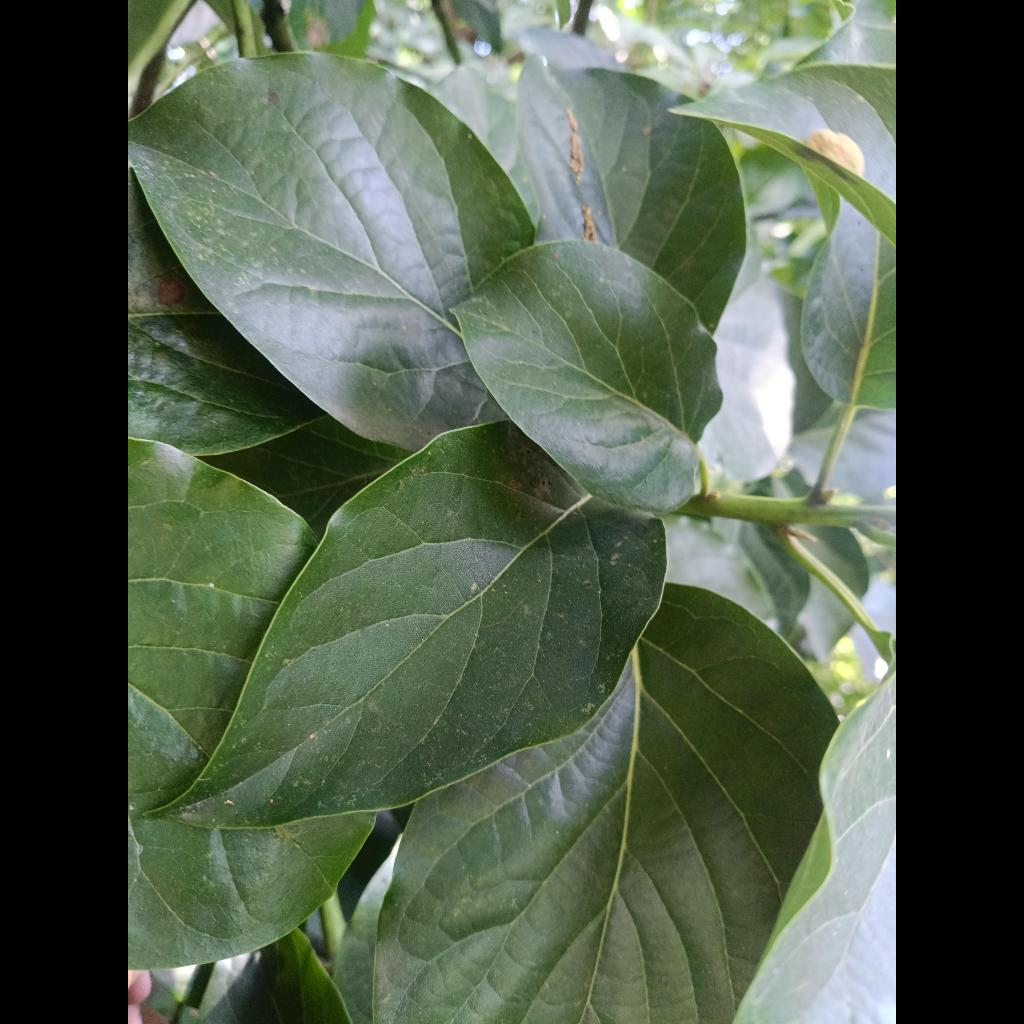hoja_sana: (162, 423, 666, 832)
